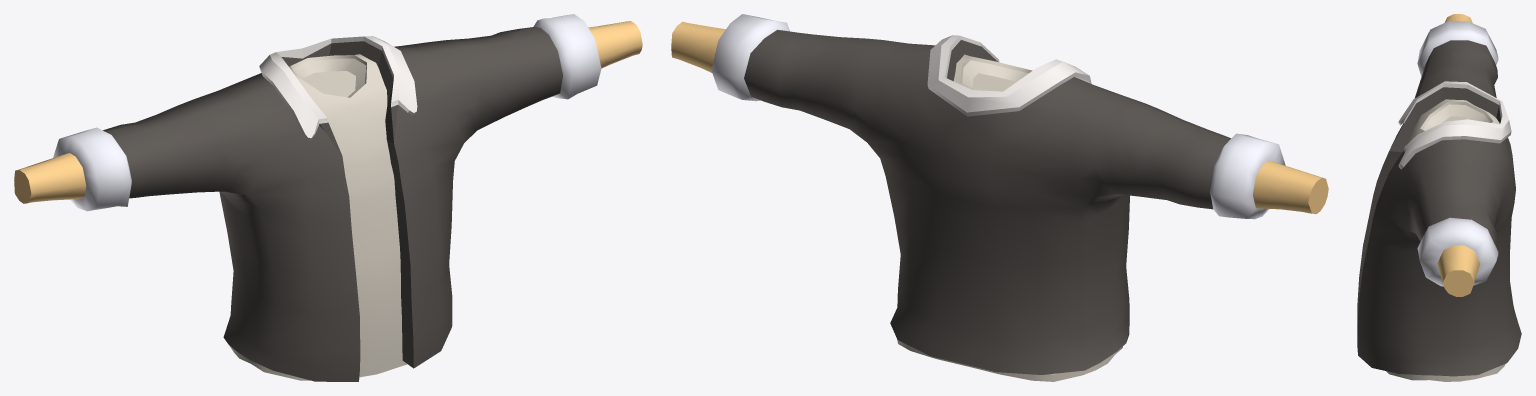
The model's file is Torso_03_04.fbx.
3 views of the same model, side by side, from view 1: azimuth 30°, elevation 25°; view 2: azimuth 150°, elevation 25°; view 3: azimuth 270°, elevation 25° (orthographic). The views are drawn at different scales.
Parts seen in each view (by area): view 1: Torso_03_04; view 2: Torso_03_04; view 3: Torso_03_04.
Boxes of the visible parts, <box> form: Torso_03_04: <box>14,14,642,381</box>; Torso_03_04: <box>671,14,1328,381</box>; Torso_03_04: <box>1357,14,1521,381</box>.
Bounding box in the file's own units: 118 × 53.04 × 31.99.
